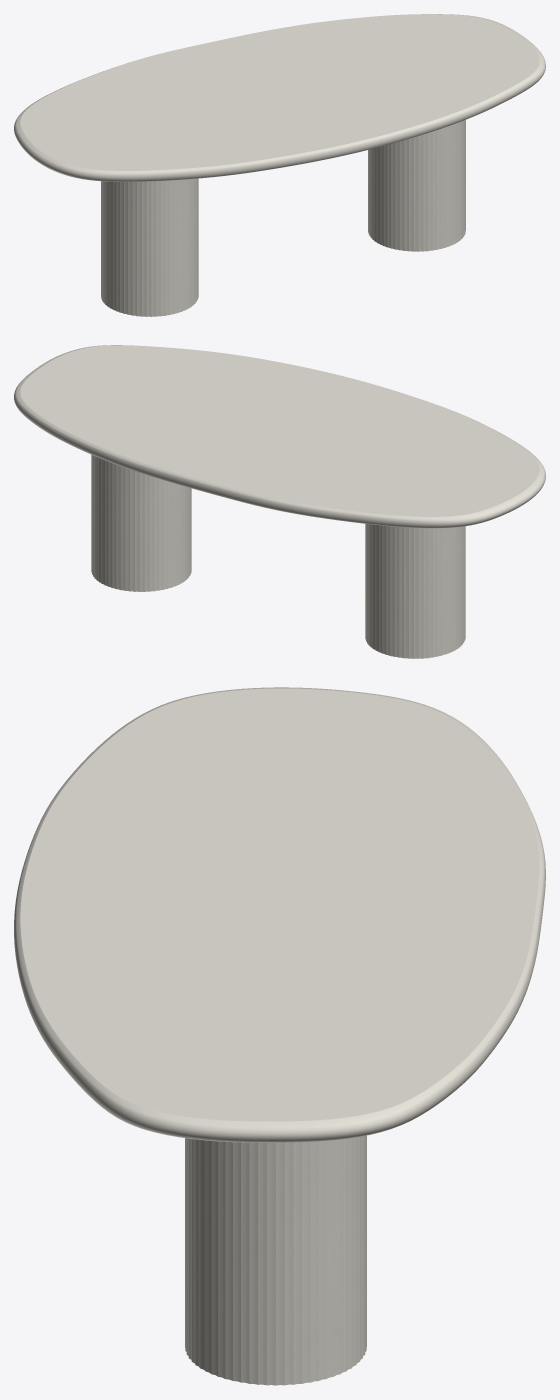
File: pale_danish_round_ripplesecond.glb
3 views of the same model, one above another, from view 1: azimuth 30°, elevation 25°; view 2: azimuth 150°, elevation 25°; view 3: azimuth 270°, elevation 25° (orthographic). The views are drawn at different scales.
Visible parts, largest first — view 1: round_danish, ripplesecond; view 2: round_danish, ripplesecond; view 3: round_danish, ripplesecond.
Part boxes in pixels (<box>): round_danish: <box>14,14,545,181</box>; ripplesecond: <box>101,120,465,316</box>; round_danish: <box>14,345,545,528</box>; ripplesecond: <box>91,454,465,658</box>; round_danish: <box>14,687,545,1142</box>; ripplesecond: <box>185,1135,366,1385</box>.
Bounding box in the file's own units: 7.5 × 2.51 × 3.8.
1 material, 1 textured.
